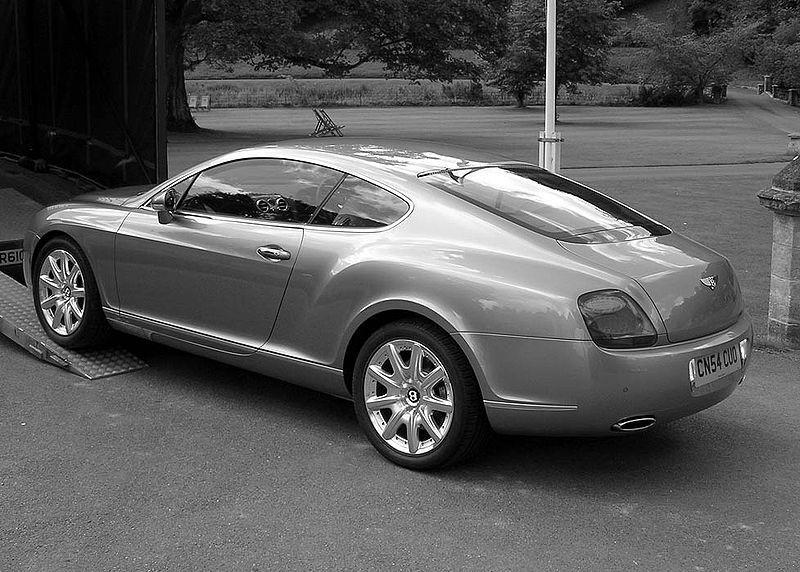car: (21, 130, 762, 477)
